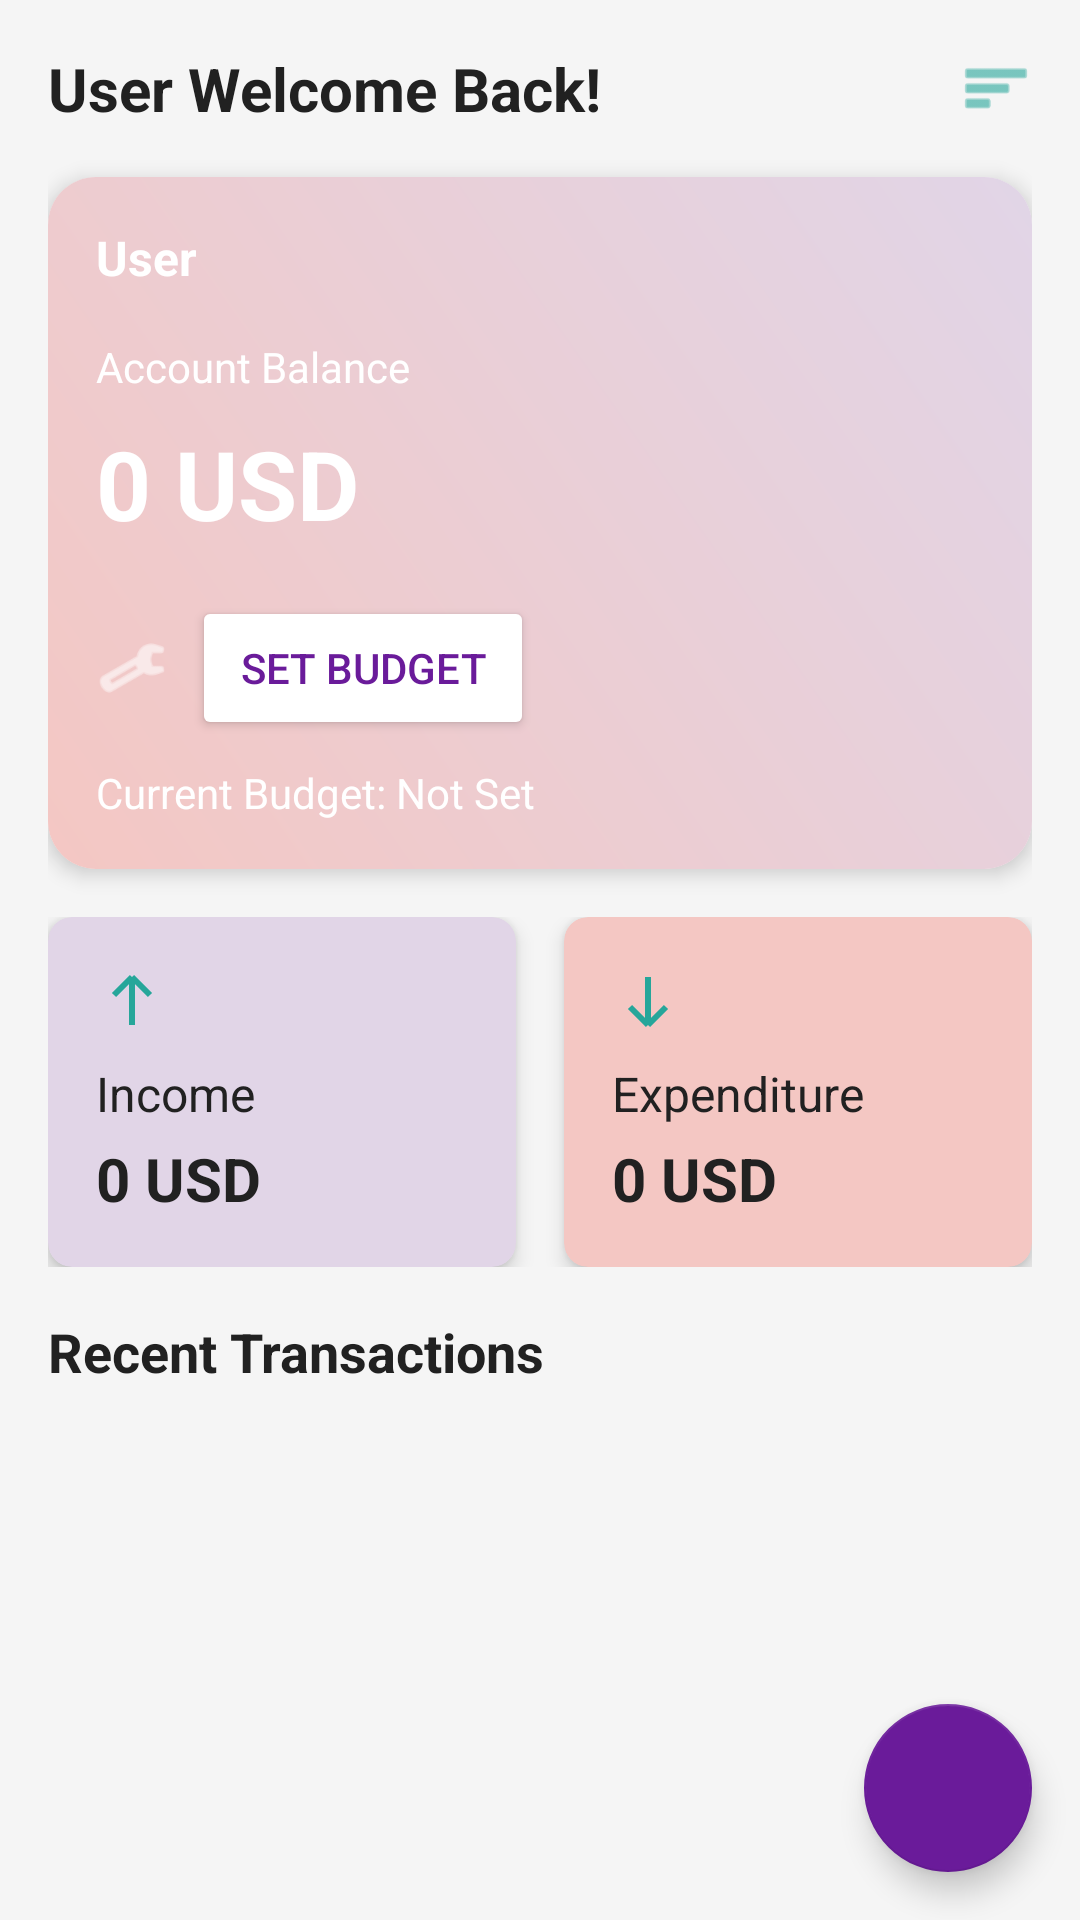

Icons on this 1080x1920 Android screen, each with the point to tap as [x,y]:
arrow down: [648,1002]
arrow up: [132,1000]
